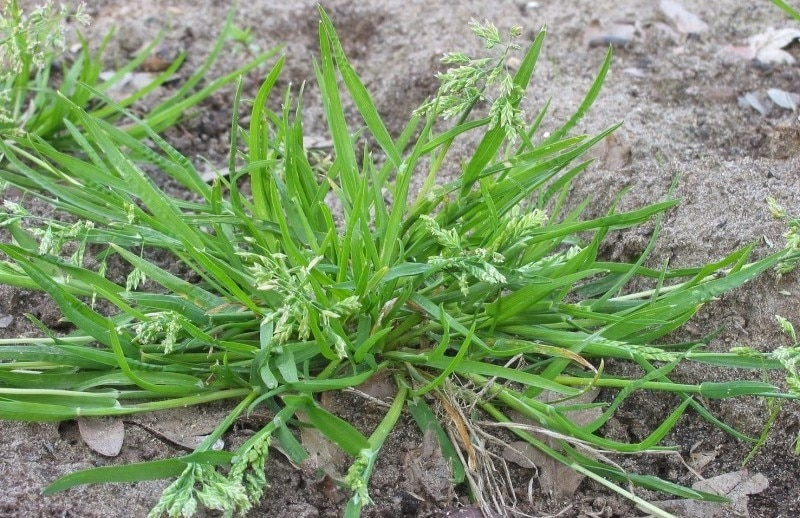crabgrass: (54, 79, 707, 472)
